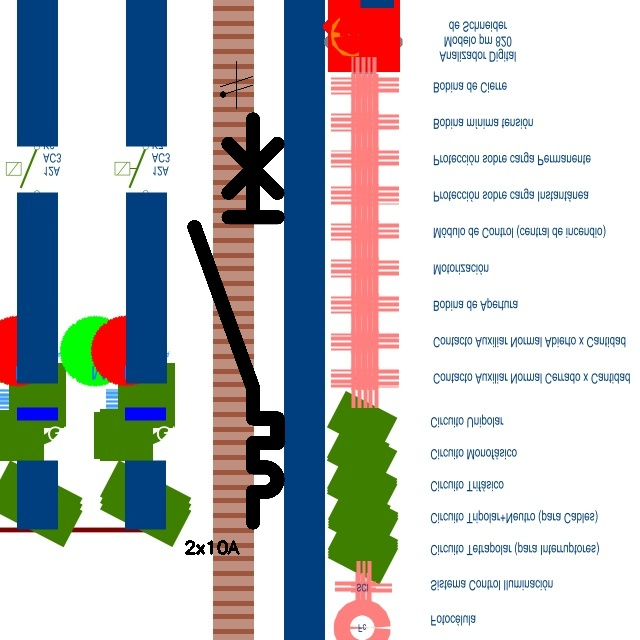interruptor_termomagnetico: (184, 108, 288, 532)
